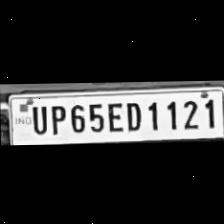1: (198, 94, 218, 128), (160, 96, 178, 130), (143, 97, 161, 130)
2: (178, 96, 200, 130)
5: (85, 98, 105, 132)
6: (66, 99, 86, 132)
D: (121, 97, 143, 130)
E: (104, 98, 122, 132)
P: (46, 100, 66, 134)
U: (26, 102, 48, 134)
